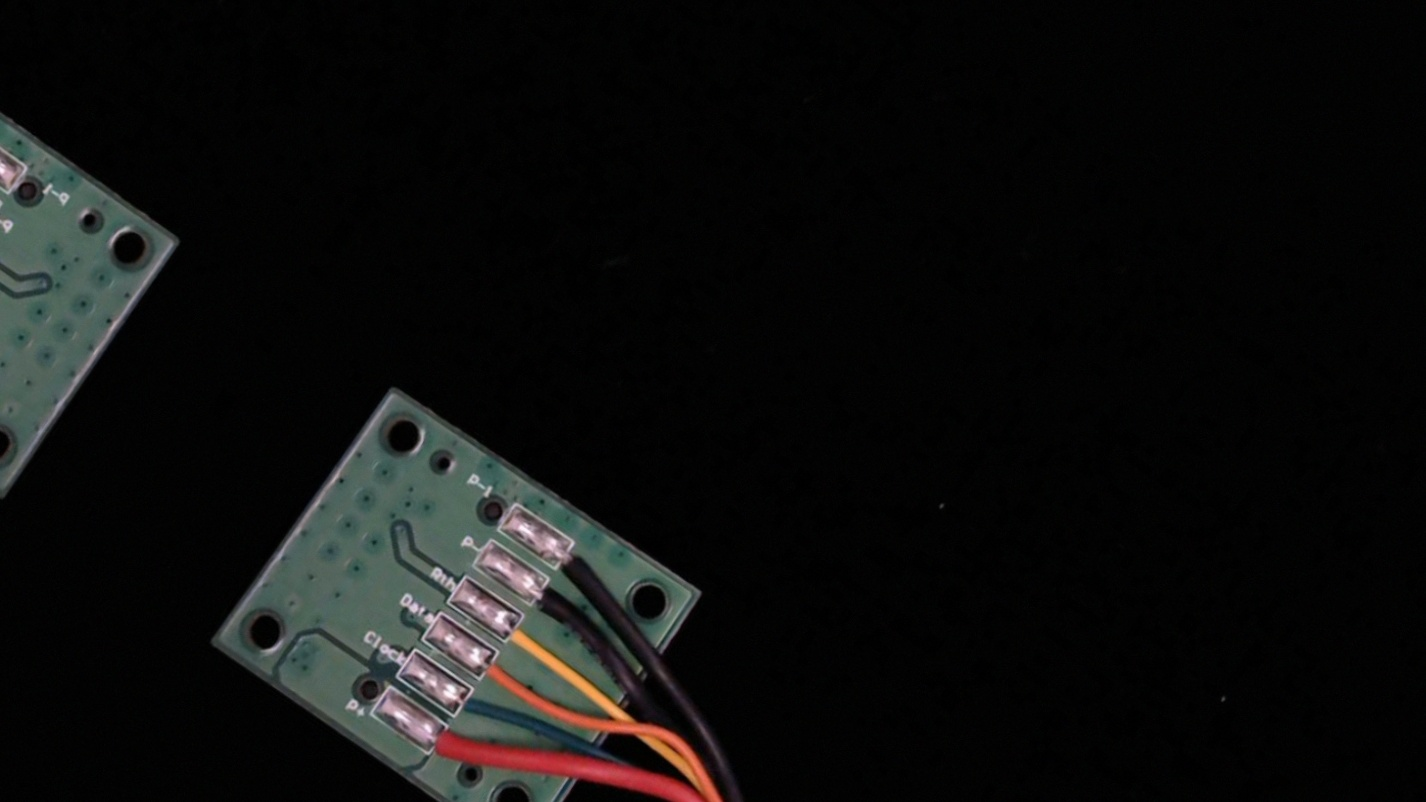Black: (506, 561, 597, 640)
Black1: (532, 527, 617, 601)
Green: (431, 670, 518, 747)
Orange: (457, 636, 545, 713)
Red: (403, 709, 491, 787)
Yellow: (480, 599, 572, 678)
